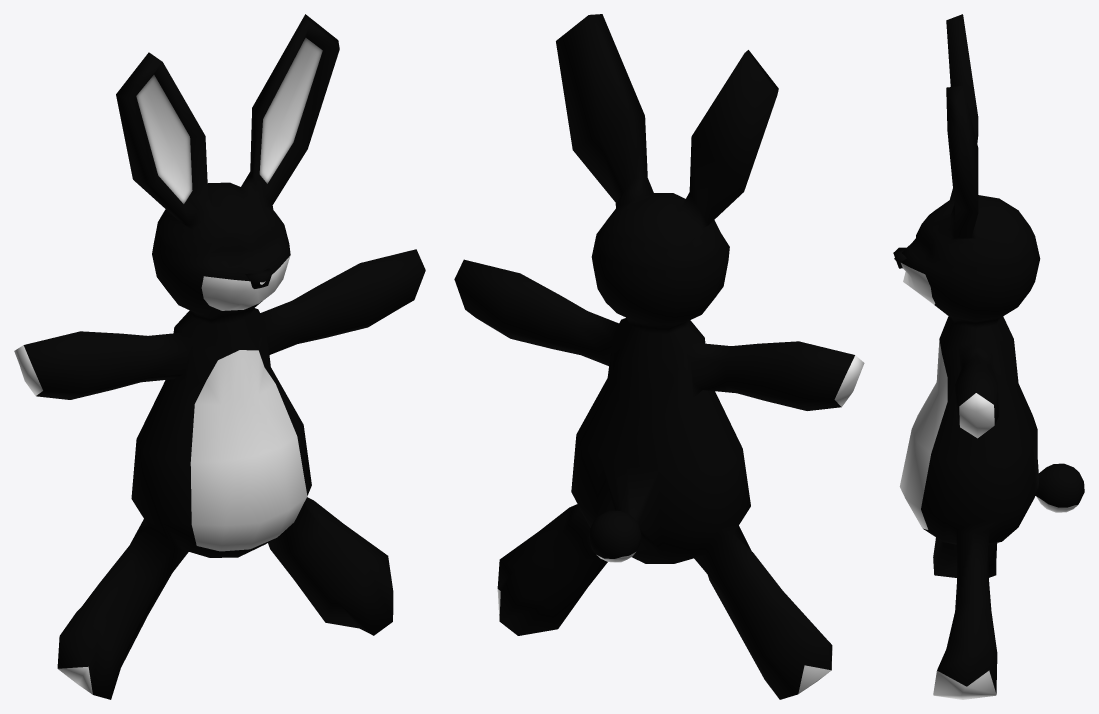
Rendered from bunny-animations.glb.
3 views of the same model, side by side, from view 1: azimuth 30°, elevation 25°; view 2: azimuth 150°, elevation 25°; view 3: azimuth 270°, elevation 25° (orthographic). The views are drawn at different scales.
Parts seen in each view (by area): view 1: Bunny Soft Toy.001; view 2: Bunny Soft Toy.001; view 3: Bunny Soft Toy.001.
Boxes of the visible parts, left/top/right/bottom form: Bunny Soft Toy.001: left=14, top=14, right=425, bottom=699; Bunny Soft Toy.001: left=454, top=14, right=864, bottom=699; Bunny Soft Toy.001: left=893, top=14, right=1084, bottom=699.
Bounding box in the file's own units: 1.4 × 2.1 × 0.617.
Materials: 3 (1 with a texture image).
